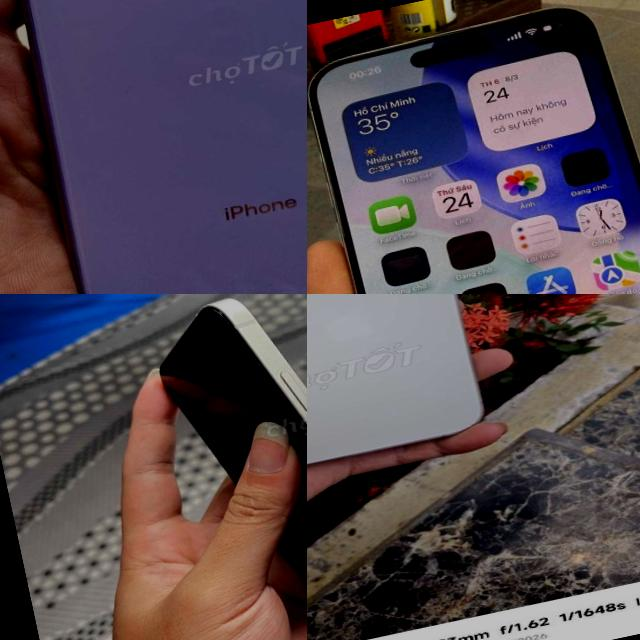gen_12_13: (125, 294, 307, 640)
gen_14: (307, 294, 503, 485)
gen_15: (307, 0, 640, 294)
gen_7_8: (0, 0, 307, 294)
